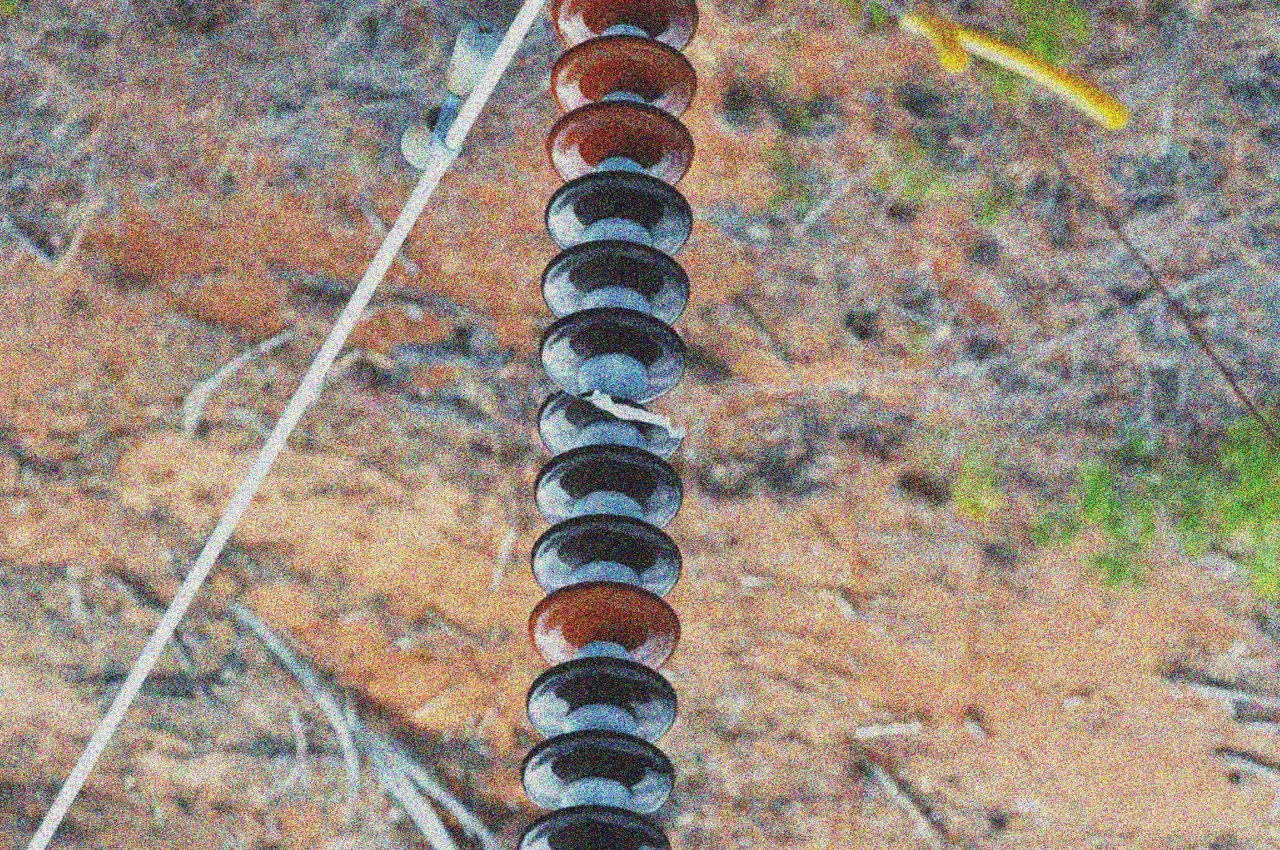Broken: (533, 387, 687, 463)
No issues: (524, 443, 689, 526), (532, 239, 697, 322), (533, 170, 698, 253), (518, 655, 682, 738), (522, 512, 686, 595), (522, 579, 686, 661), (512, 731, 676, 813), (530, 306, 694, 388), (535, 101, 699, 183), (539, 34, 703, 116), (549, 0, 702, 55), (514, 802, 681, 850)
String: (507, 0, 716, 849)
